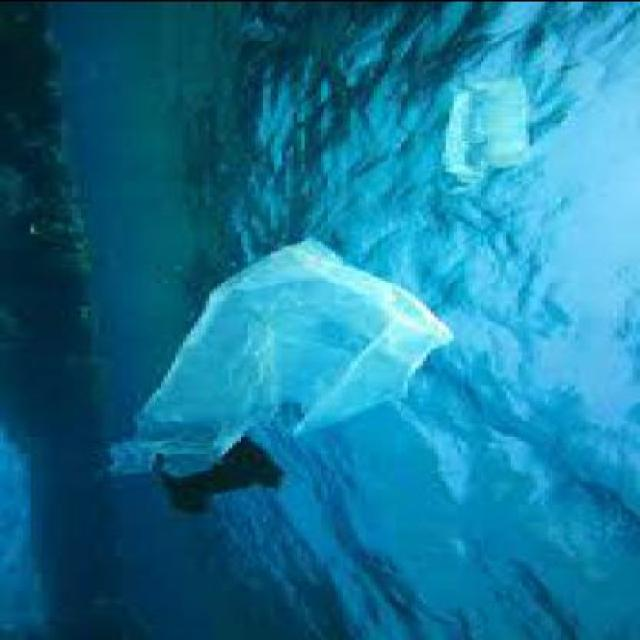PLASTIC: (111, 240, 451, 476), (156, 436, 281, 512), (445, 78, 528, 183)
